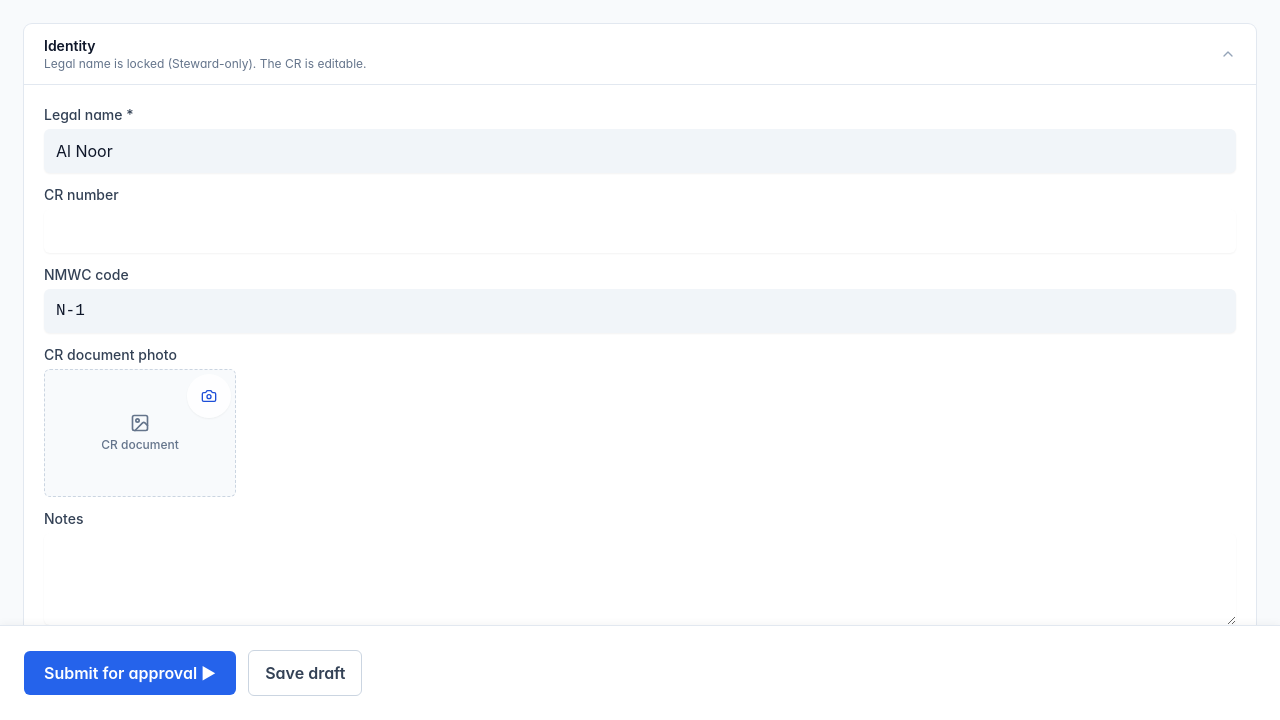
Test: the customer update form › Try again after an unanswered Save draft repeats the SAVE, with its id — and the phone copy stays
Click the button "Save draft".
click(305, 673)  # box top-left (248, 650), bottom-right (362, 696)
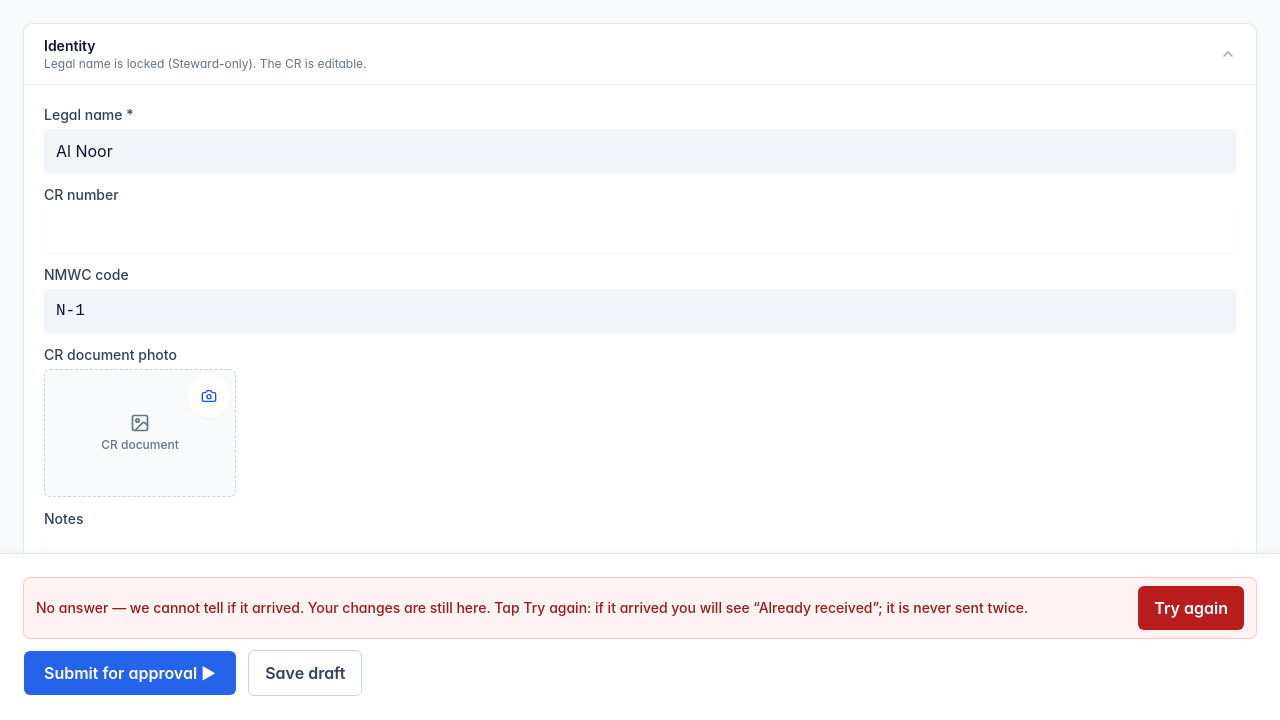
Click the button "Try again".
click(1191, 608)  # box top-left (1138, 586), bottom-right (1244, 630)
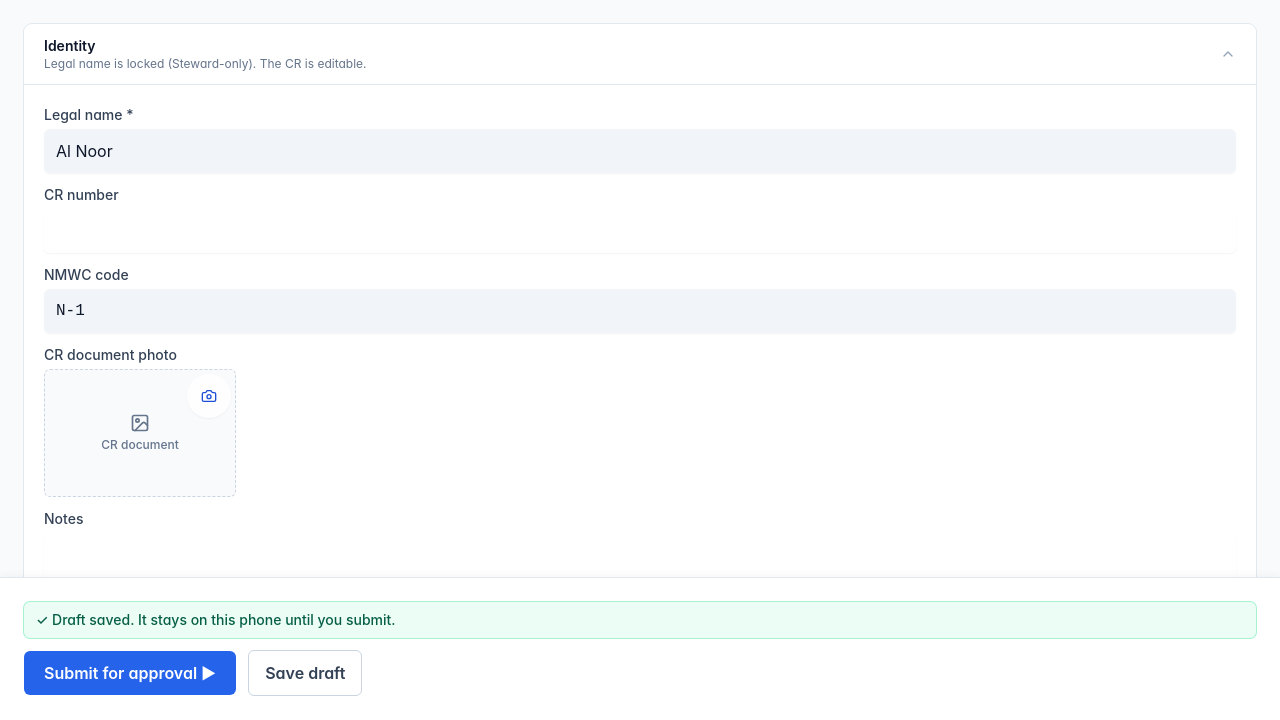
Now the message shows "✓ Draft saved. It stays on this phone", box top-left (36, 611), bottom-right (396, 628)
